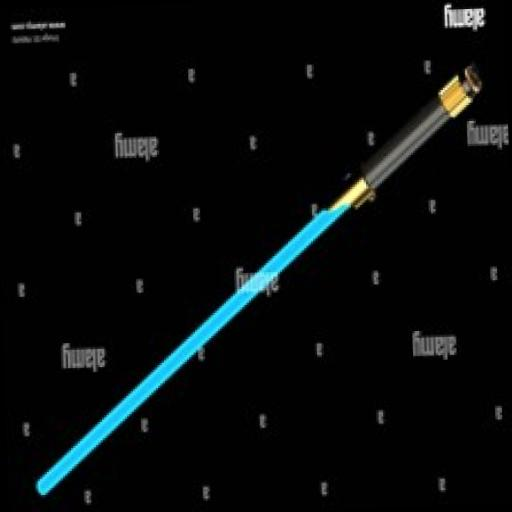lightsaber: (16, 62, 498, 497)
